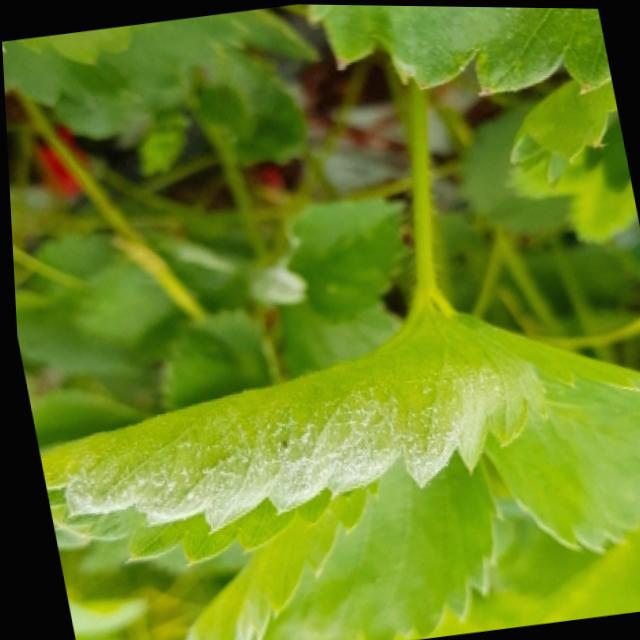Powdery Mildew Leaf: (34, 299, 548, 567)
